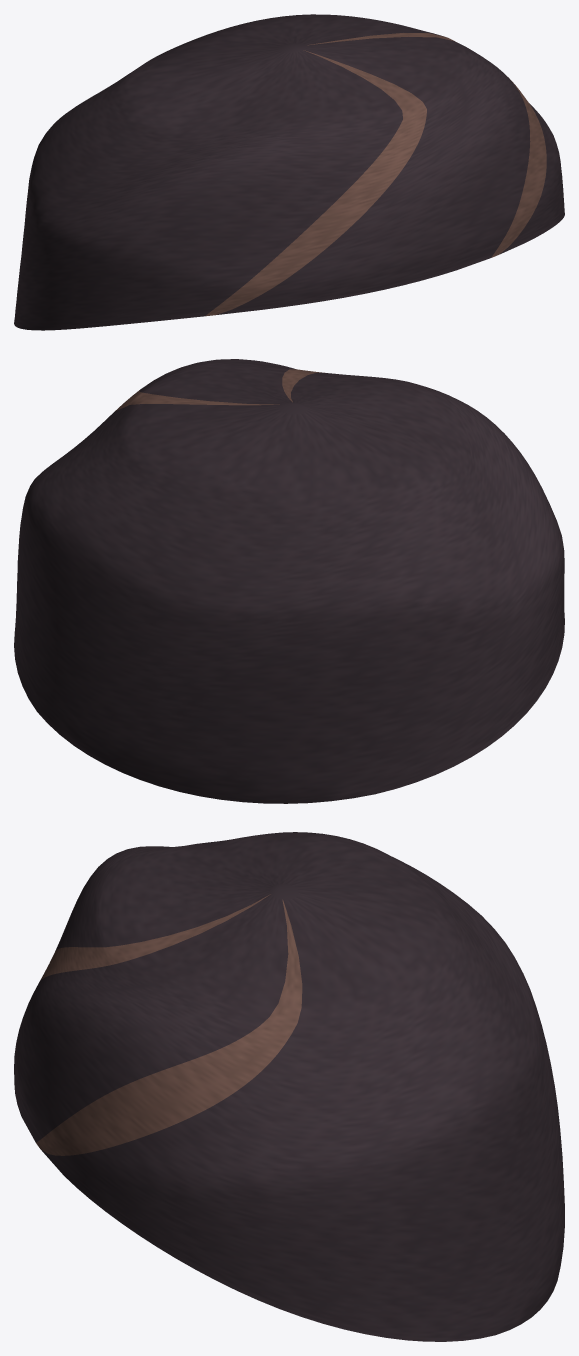
File: hair_side_part_default.gltf
3 renders of one model, top to bottom at view 1: azimuth 30°, elevation 25°; view 2: azimuth 150°, elevation 25°; view 3: azimuth 270°, elevation 25°, orthographic. The views are drawn at different scales.
Visible parts, largest first — view 1: Side Part default; view 2: Side Part default; view 3: Side Part default.
Boxes of the visible parts, x1,y1,x2,y2 form: Side Part default: (14, 14, 564, 330); Side Part default: (14, 359, 564, 803); Side Part default: (14, 832, 564, 1341).
Size of the model in its own units: 0.4759 by 0.2746 by 0.3707.
Materials: 2 (2 with a texture image).
